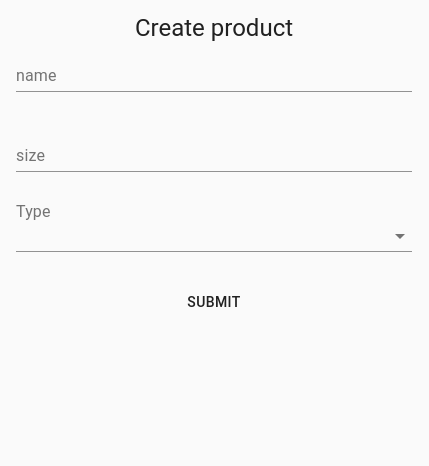
<Form /> › when the user submits the form and the server returns an unexpected error › should the form page must display the error message _“Unexpected error, please try again”
The width and height of the screenshot is (429, 466).
Click the button "Submit" at x=214, y=302, box left=16, top=284, right=412, bottom=320
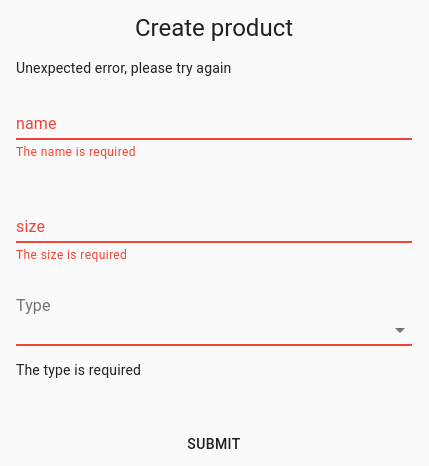
Expected: the text "Unexpected error, please try again" is shown, left=16, top=60, right=231, bottom=76
